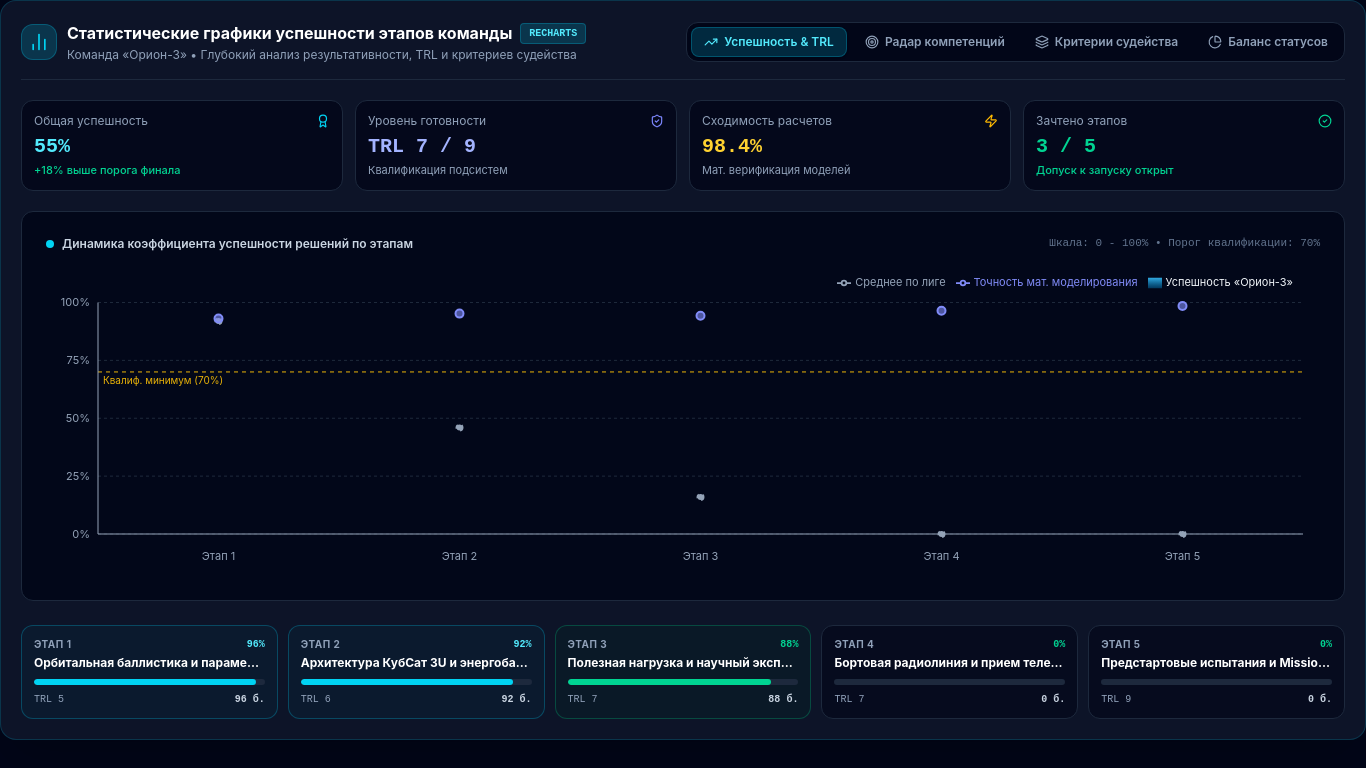
Test case: StageSuccessStatsChart: Статистические графики успешности этапов (Recharts) › позволяет переключать все 4 аналитических режима Recharts
Expected: the button with test id "btn-mode-rate" is shown, x1=691 y1=27 x2=847 y2=57
Expected: the button with test id "btn-mode-criteria" is shown, x1=1023 y1=28 x2=1190 y2=56
// Mode 2: Radar
Click the button with test id "btn-mode-radar".
click(935, 42)  # box x1=853 y1=28 x2=1017 y2=56
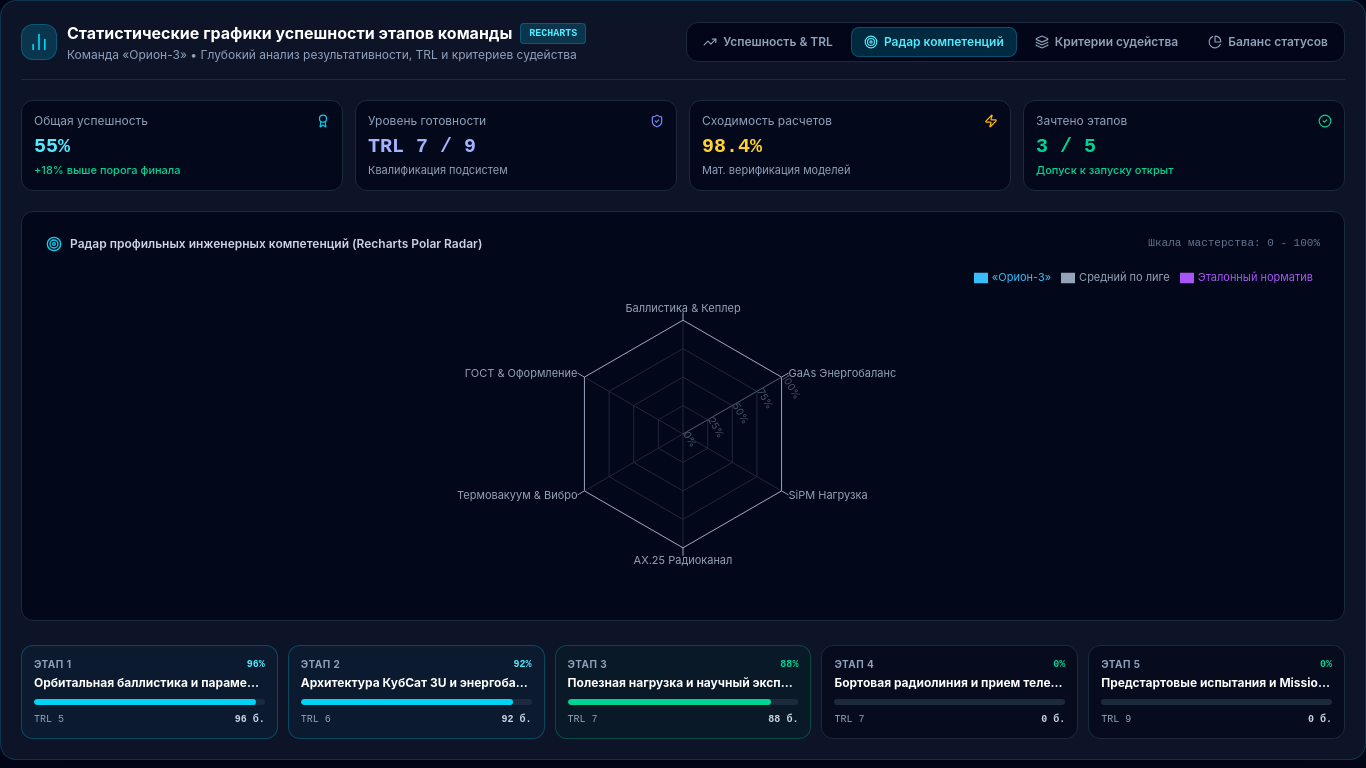
Expected: the element with test id "chart-container-radar" is shown, x1=38 y1=264 x2=1328 y2=604
Expected: the text "Радар профильных инженерных компетенций" is shown, x1=70 y1=236 x2=482 y2=251
// Mode 3: Criteria Breakdown
Click the button with test id "btn-mode-criteria".
click(1106, 42)  # box x1=1023 y1=28 x2=1190 y2=56
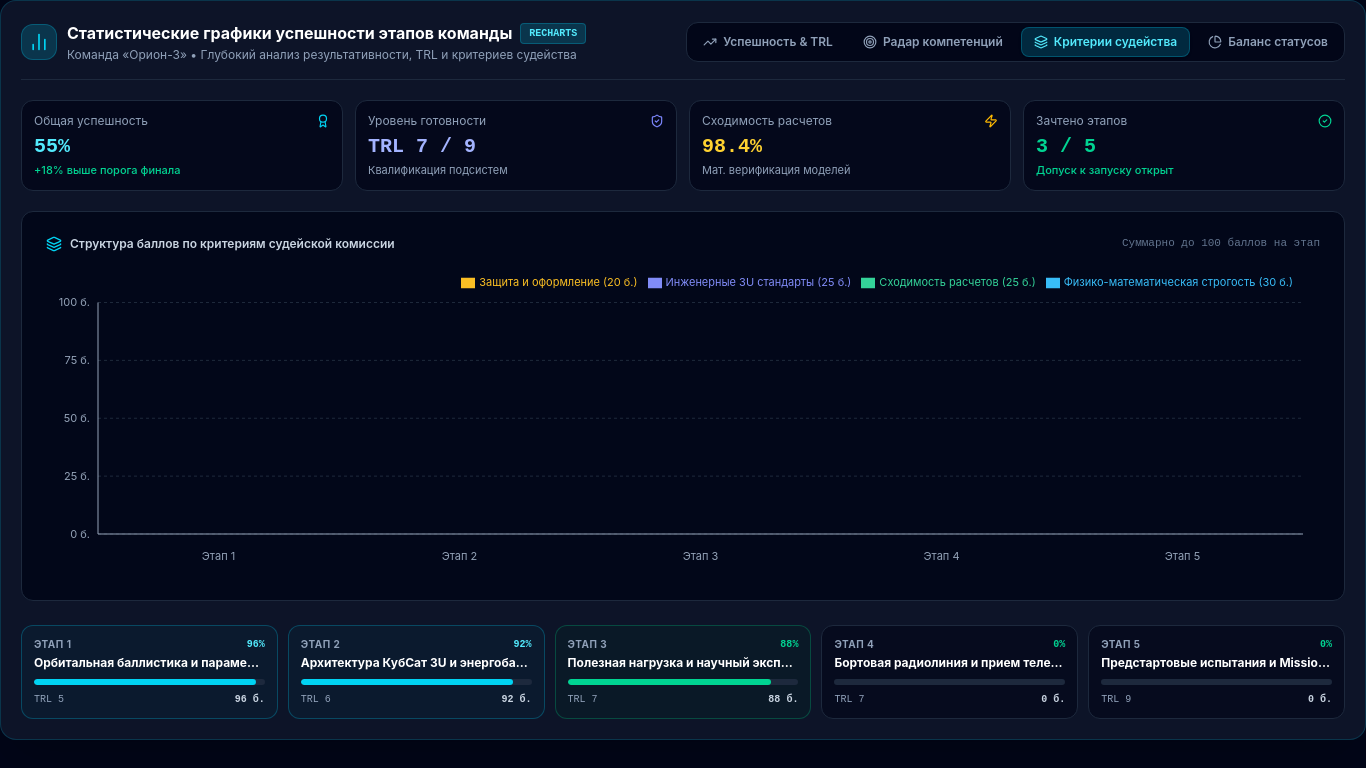
Expected: the element with test id "chart-container-criteria" is shown, x1=38 y1=264 x2=1328 y2=584
Expected: the text "Структура баллов по критериям судейской комиссии" is shown, x1=70 y1=236 x2=395 y2=252
// Mode 4: Status Distribution
Click the button with test id "btn-mode-status".
click(1268, 42)  # box x1=1196 y1=28 x2=1340 y2=56
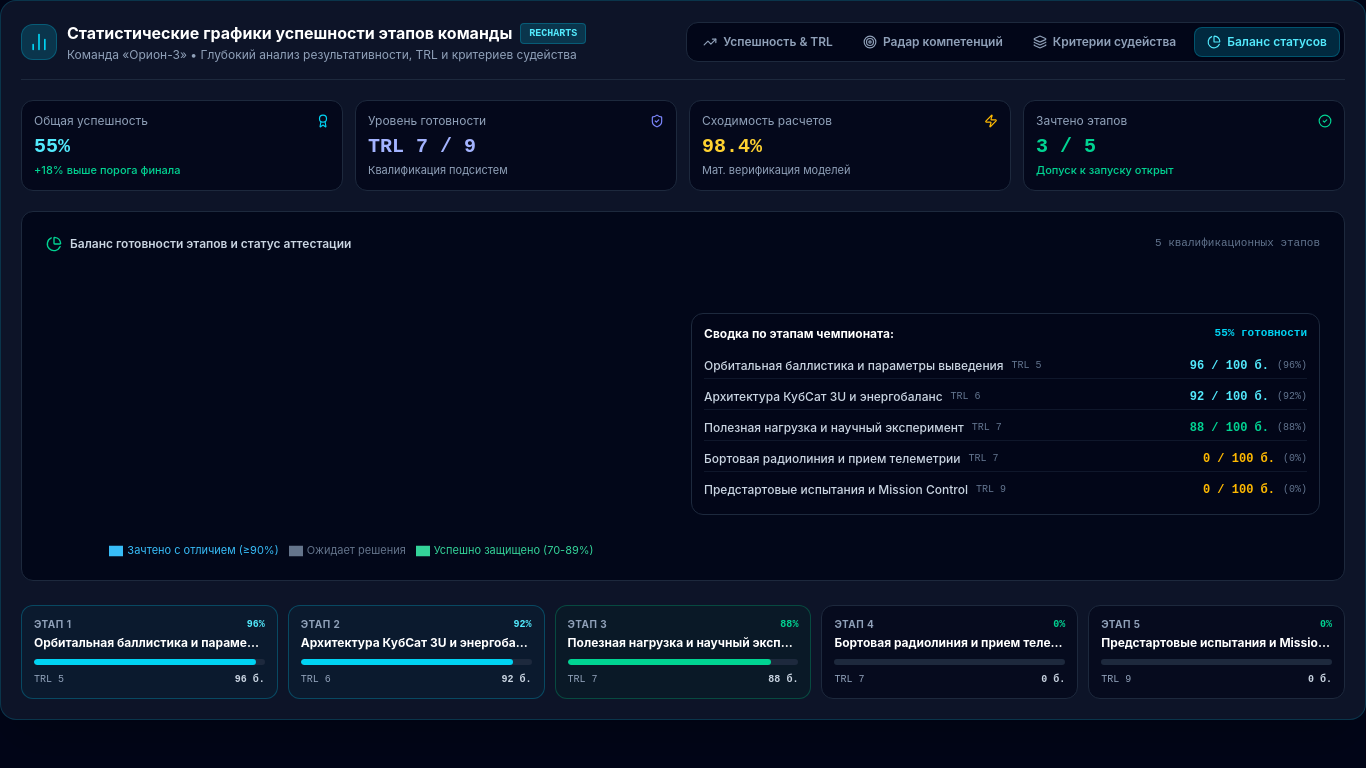
Expected: the element with test id "chart-container-pie" is shown, x1=38 y1=264 x2=675 y2=564
Expected: the text "Баланс готовности этапов и статус аттестации" is shown, x1=70 y1=236 x2=351 y2=252
// Return to Rate
Click the button with test id "btn-mode-rate".
click(768, 42)  # box x1=691 y1=28 x2=845 y2=56
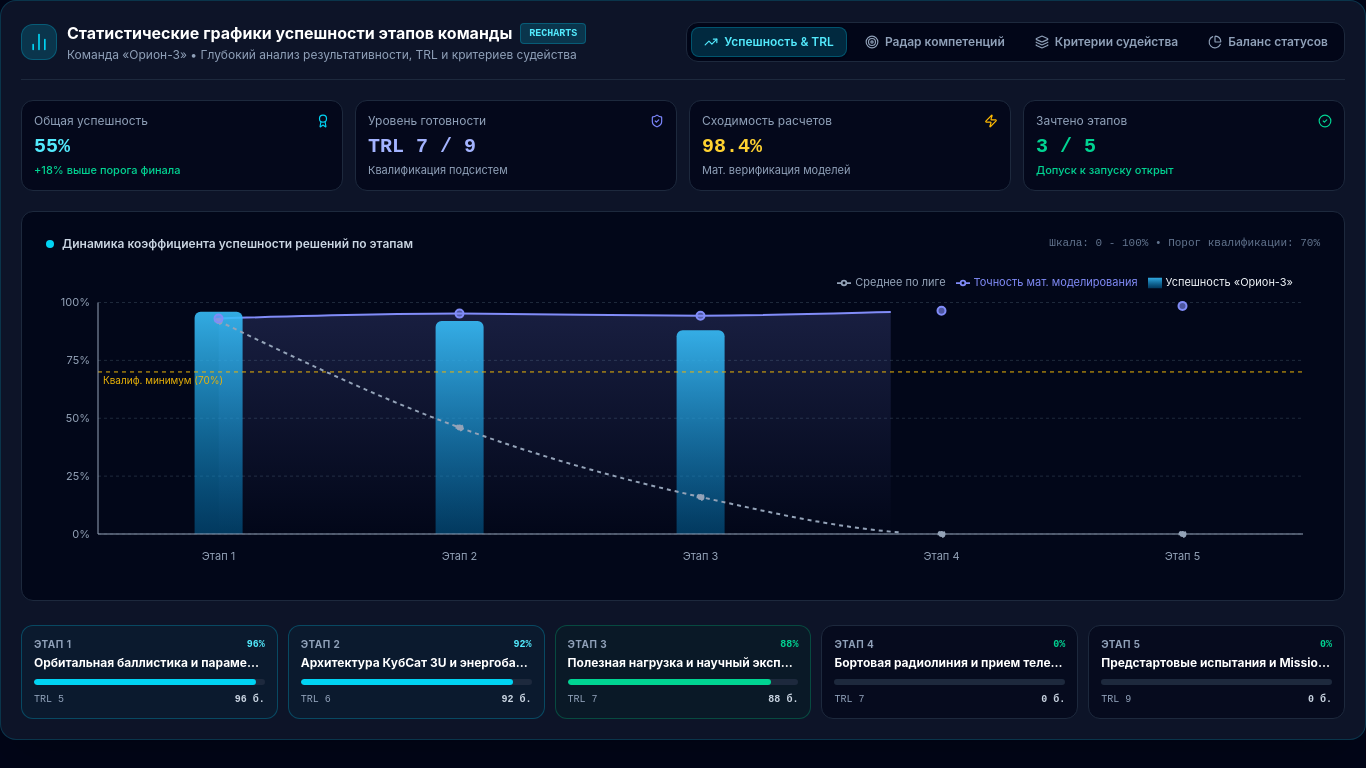
Expected: the element with test id "chart-container-rate" is shown, x1=38 y1=264 x2=1328 y2=584
